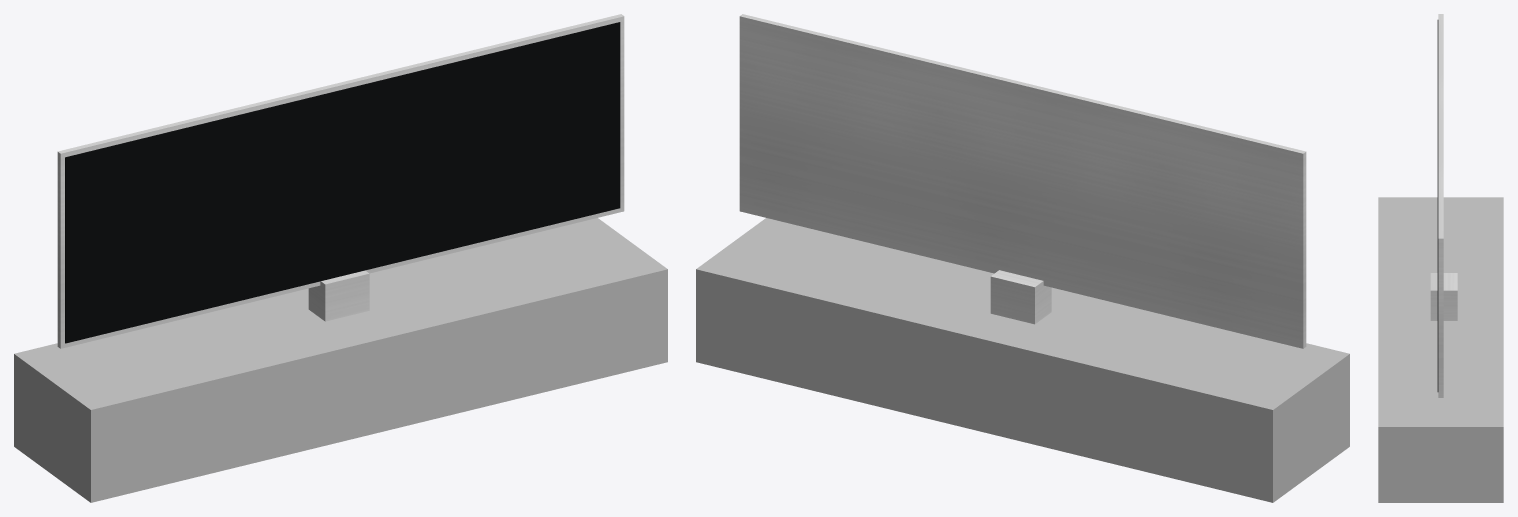
The model's file is tv_flat.obj.
3 views of the same model, side by side, from view 1: azimuth 30°, elevation 25°; view 2: azimuth 150°, elevation 25°; view 3: azimuth 270°, elevation 25° (orthographic). The views are drawn at different scales.
Visible parts, largest first — view 1: tv_flat; view 2: tv_flat; view 3: tv_flat.
Boxes of the visible parts, box(x1,y1,x2,y2) form: tv_flat: box(14, 14, 667, 502); tv_flat: box(696, 14, 1349, 502); tv_flat: box(1378, 14, 1503, 502).
Size of the model in its own units: 2.6 by 1.38 by 0.6.
